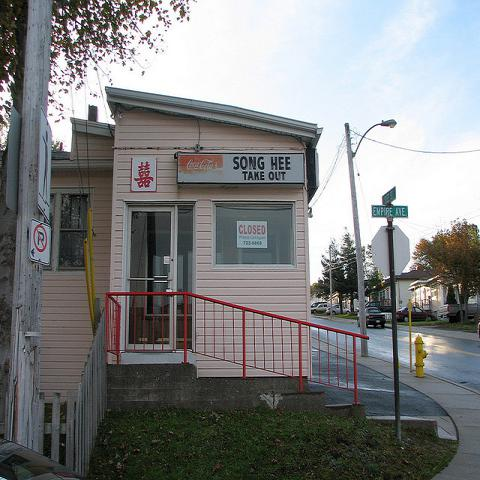car: (356, 306, 386, 329), (396, 306, 436, 323), (326, 304, 350, 315), (311, 302, 328, 314), (478, 320, 480, 341)
truck: (439, 296, 479, 324), (365, 300, 393, 312), (310, 302, 328, 308)
